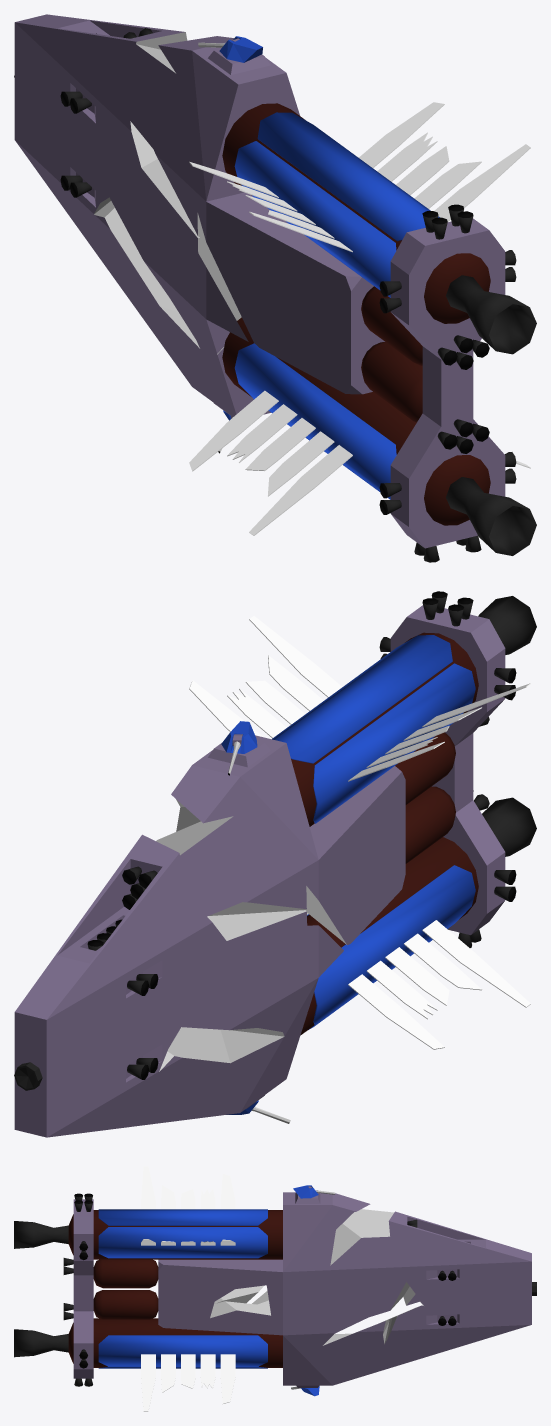
The model's file is ShipBroken.obj.
The picture shows the model from 3 angles, top to bottom: view 1: azimuth 30°, elevation 25°; view 2: azimuth 150°, elevation 25°; view 3: azimuth 270°, elevation 25°; orthographic projection. The views are drawn at different scales.
Parts seen in each view (by area): view 1: Main_Hull, Cube, Armour_Panel, Armour_Panel.005, Armour_Panel.003, Radiators.002, Radiators, Fuel_Tank.001, Fuel_Tank.002, Thruster.002, Thruster.001, Fuel_Tank.004 (+4 smaller); view 2: Main_Hull, Cube, Armour_Panel, Armour_Panel.003, Armour_Panel.005, Radiators.002, Radiators, Fuel_Tank.001, Fuel_Tank.004, Radiators.003, Fuel_Tank.003, Fuel_Tank.002 (+4 smaller); view 3: Main_Hull, Armour_Panel.004, Armour_Panel.001, Cube, Radiators.001, Armour_Panel, Fuel_Tank.001, Fuel_Tank.002, Fuel_Tank.004, Fuel_Tank.003, Radiators.003, Thruster.001 (+2 smaller).
Part boxes in pixels (x1,y1,x2,y2): Main_Hull: (14, 14, 384, 416); Cube: (390, 218, 505, 548); Armour_Panel: (257, 112, 439, 241); Armour_Panel.005: (234, 343, 396, 499); Armour_Panel.003: (234, 141, 396, 297); Radiators.002: (189, 390, 352, 535); Radiators: (359, 102, 530, 221); Fuel_Tank.001: (222, 317, 490, 525); Fuel_Tank.002: (222, 103, 490, 323); Thruster.002: (446, 275, 536, 354); Thruster.001: (446, 477, 536, 555); Fuel_Tank.004: (361, 342, 422, 422); Main_Hull: (14, 735, 405, 1137); Cube: (390, 605, 505, 935); Armour_Panel: (272, 635, 452, 763); Armour_Panel.003: (313, 663, 475, 823); Armour_Panel.005: (313, 865, 475, 1025); Radiators.002: (348, 920, 530, 1049); Radiators: (189, 616, 342, 738); Fuel_Tank.001: (300, 837, 478, 1035); Fuel_Tank.004: (405, 786, 455, 863); Radiators.003: (348, 683, 530, 781); Fuel_Tank.003: (395, 732, 455, 804); Fuel_Tank.002: (291, 632, 478, 826); Main_Hull: (158, 1192, 531, 1385); Armour_Panel.004: (98, 1227, 267, 1258); Armour_Panel.001: (98, 1335, 267, 1366); Cube: (73, 1199, 93, 1378); Radiators.001: (141, 1354, 235, 1411); Armour_Panel: (98, 1209, 267, 1225); Fuel_Tank.001: (68, 1318, 282, 1367); Fuel_Tank.002: (68, 1210, 282, 1259); Fuel_Tank.004: (93, 1290, 158, 1319); Fuel_Tank.003: (93, 1259, 158, 1288); Radiators.003: (141, 1166, 235, 1209); Thruster.001: (14, 1329, 68, 1357).
Bounding box in the file's own units: 34.54 × 46.84 × 105.
